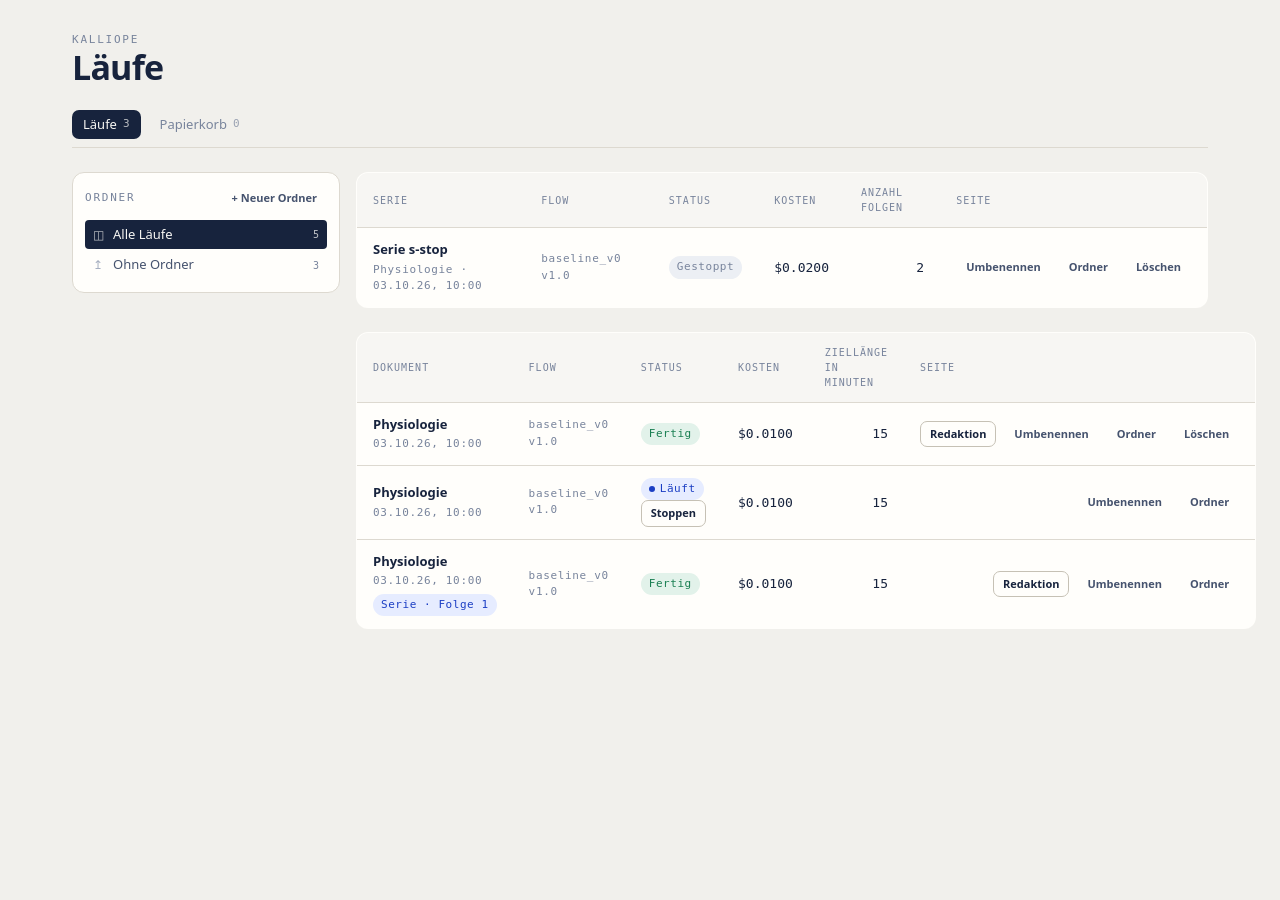
Scenario: runs trash › shows a rejected series trash request
Click the button "Löschen" in the row of "Serie s-stop" at (1158, 268), box 1126,254 -> 1191,281
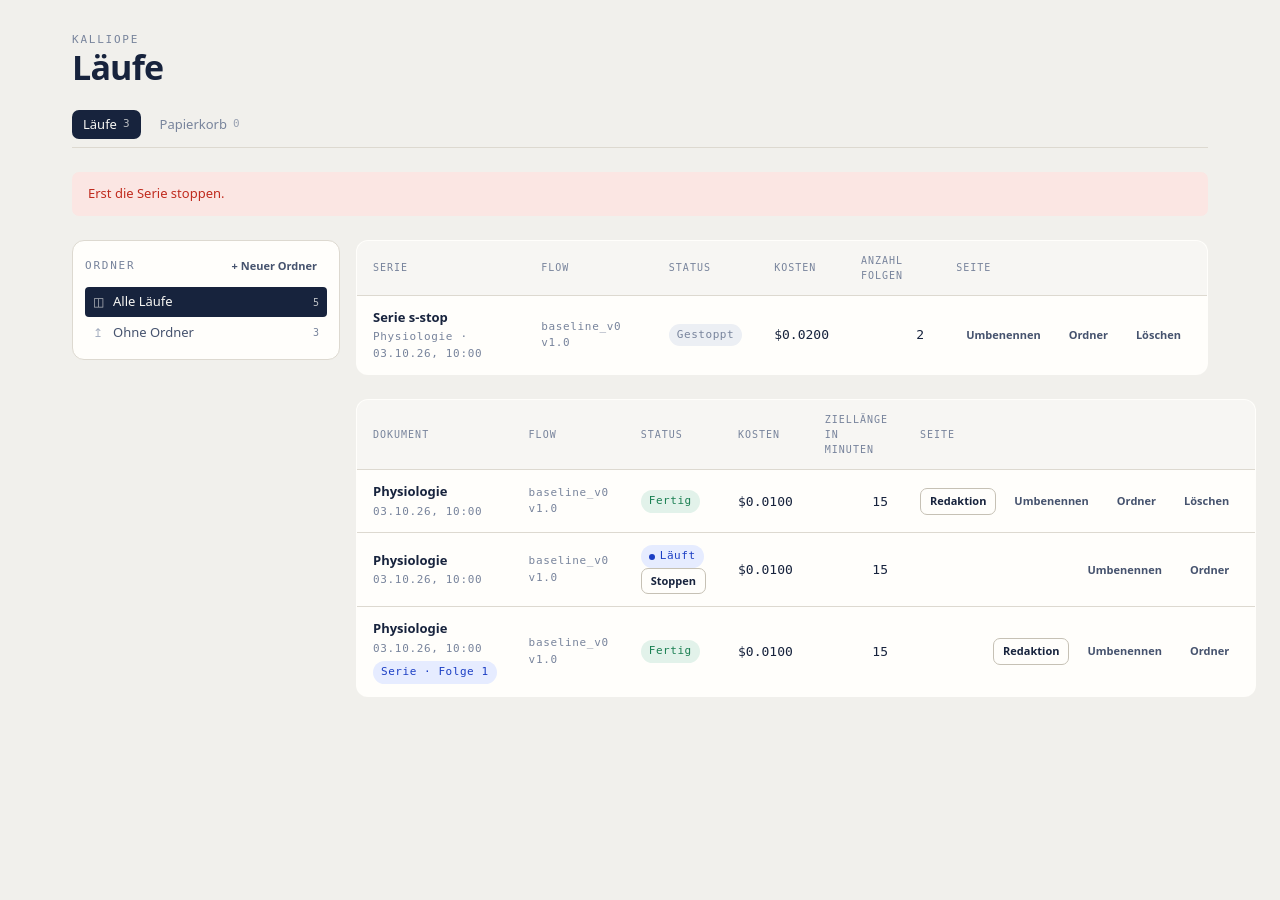
Now the message "Erst die Serie stoppen." is shown, box 72,172 -> 1208,216
